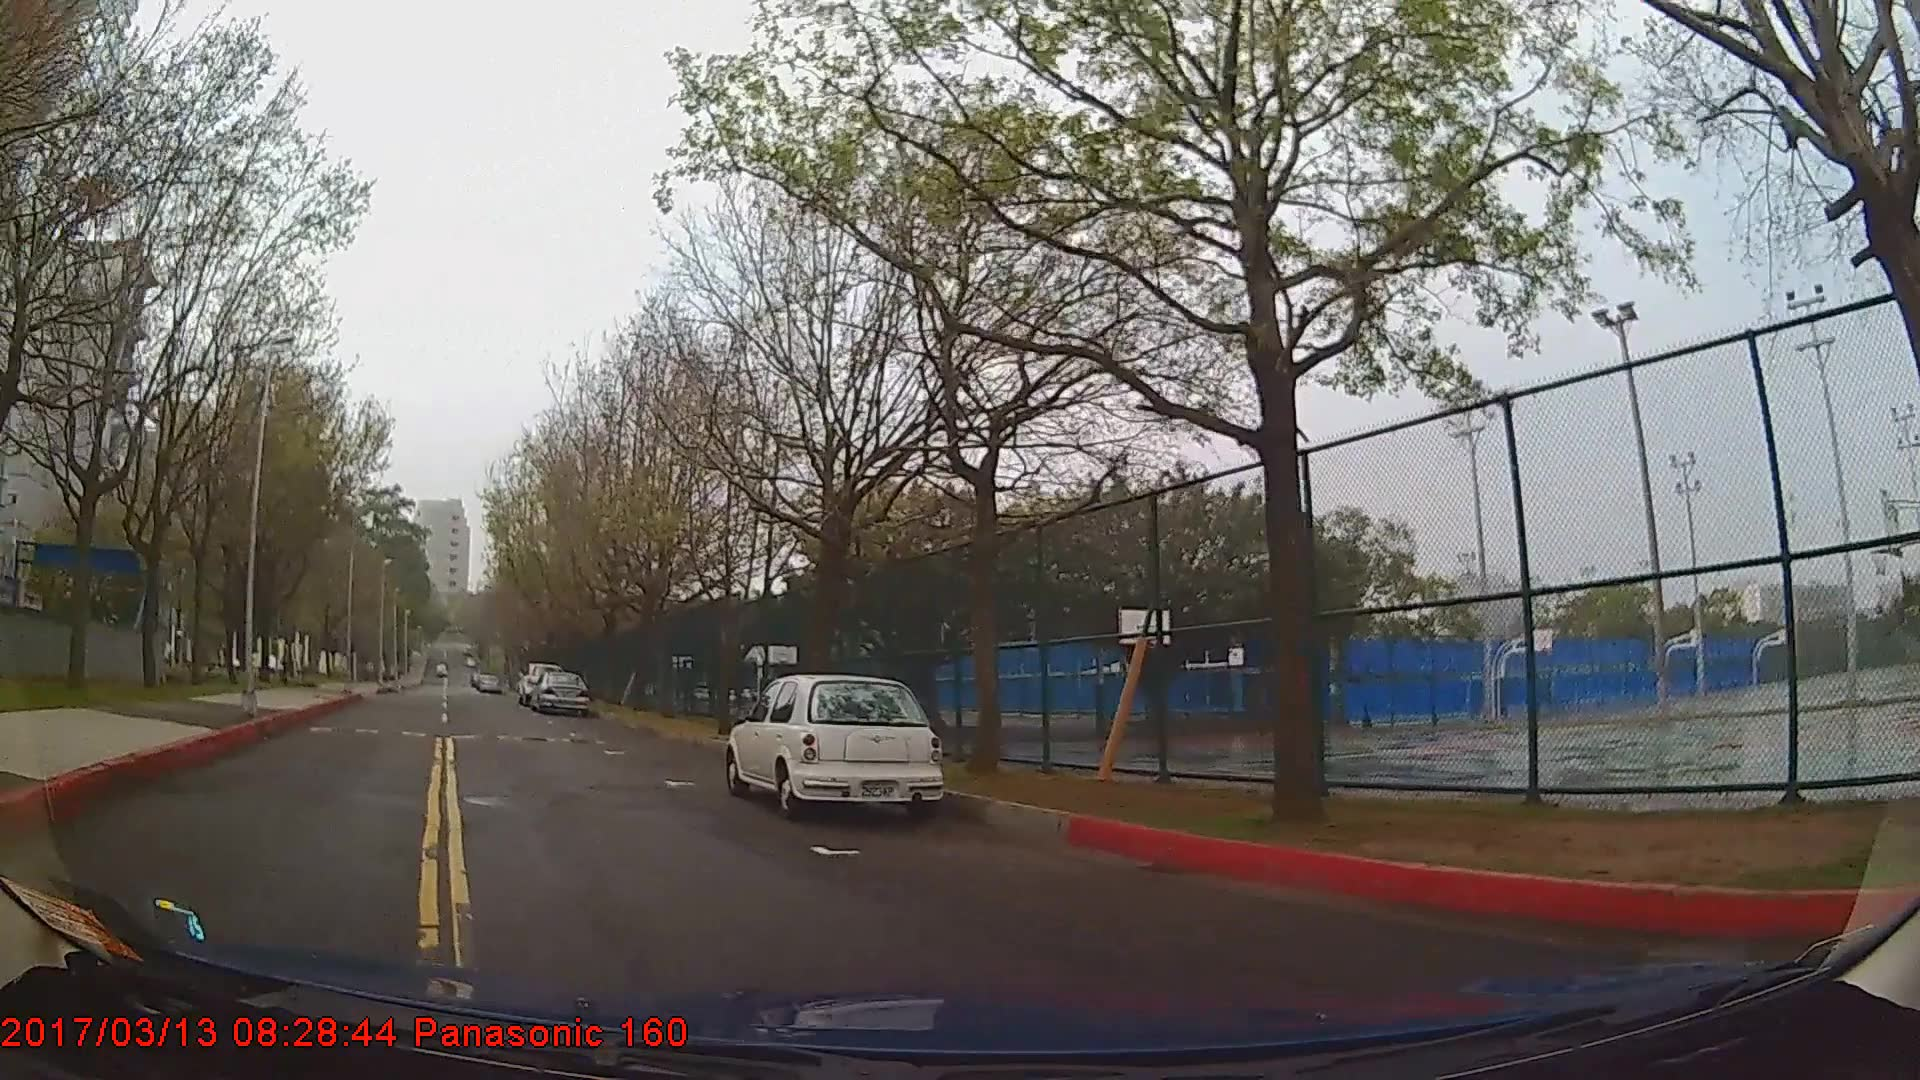vehicle: (723, 671, 944, 815), (529, 667, 588, 711)
